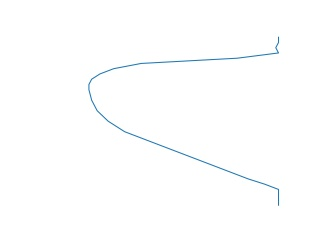beach: (82, 39, 287, 208)
